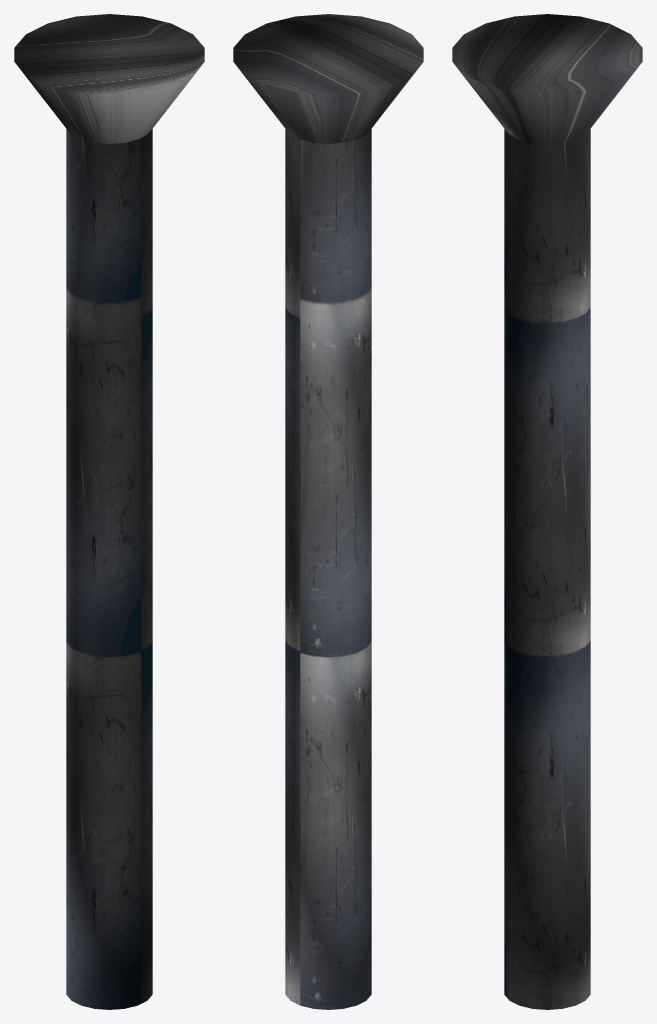
File: lamp.obj
3 renders of one model, left to right at view 1: azimuth 30°, elevation 25°; view 2: azimuth 150°, elevation 25°; view 3: azimuth 270°, elevation 25°, orthographic.
Visible parts, largest first — view 1: Cylinder002; view 2: Cylinder002; view 3: Cylinder002.
Part boxes in pixels (x1=…): Cylinder002: x1=14, y1=14, x2=204, y2=1009; Cylinder002: x1=233, y1=14, x2=423, y2=1009; Cylinder002: x1=452, y1=14, x2=642, y2=1009.
Size of the model in its own units: 7.01 by 37.53 by 6.9.
1 material, 1 textured.
